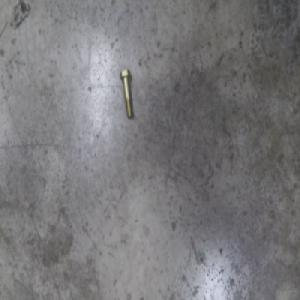Bolt: (120, 67, 134, 117)
